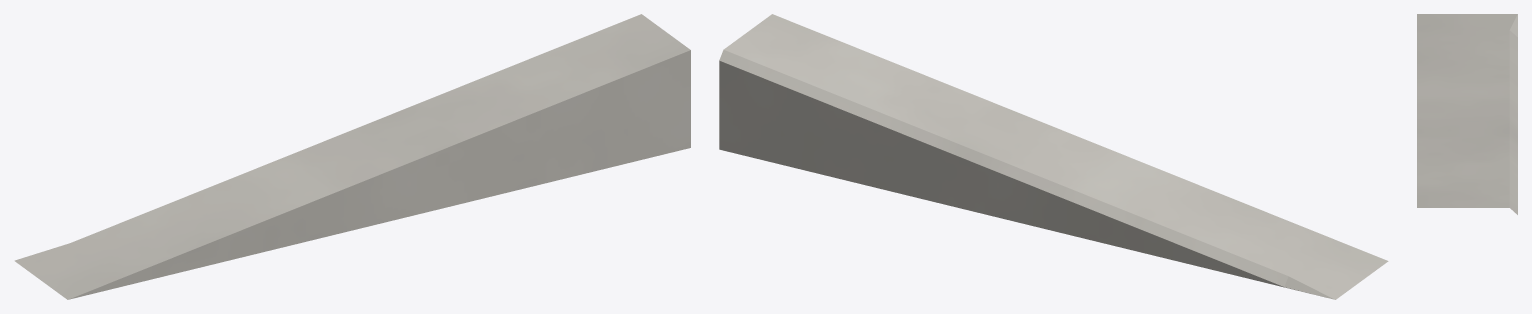
Rendered from strip_zero_ccw.obj.
The picture shows the model from 3 angles, left to right: view 1: azimuth 30°, elevation 25°; view 2: azimuth 150°, elevation 25°; view 3: azimuth 270°, elevation 25°; orthographic projection. The views are drawn at different scales.
Visible parts, largest first — view 1: strip_zero_ccw; view 2: strip_zero_ccw; view 3: strip_zero_ccw.
Boxes of the visible parts, x1,y1,x2,y2 form: strip_zero_ccw: (14, 14, 690, 299); strip_zero_ccw: (719, 14, 1388, 299); strip_zero_ccw: (1417, 14, 1517, 214).
Size of the model in its own units: 1 by 0.15 by 0.149.
